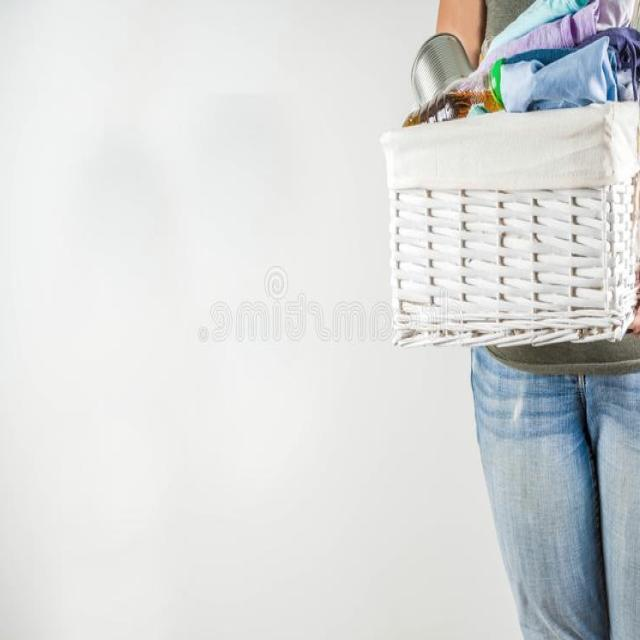clothes: (498, 0, 640, 113)
